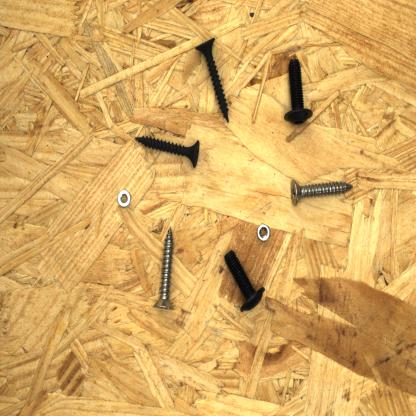screw: (190, 33, 234, 125), (130, 127, 203, 173), (221, 246, 268, 315), (280, 51, 318, 129), (150, 222, 178, 316), (287, 175, 355, 211)
